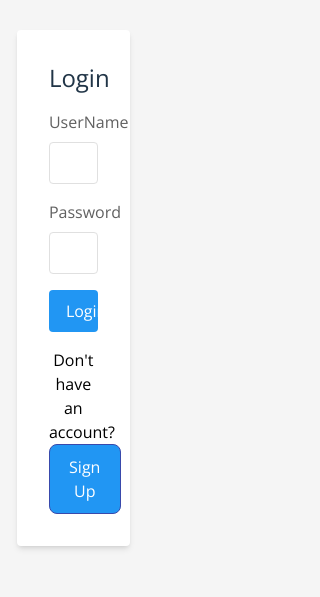
Test: LoginPage › switches to signup mode when the "Sign Up" button is clicked
Click the button "Sign Up" at x=85, y=479, box [49,444,121,514]
(page scrolled)
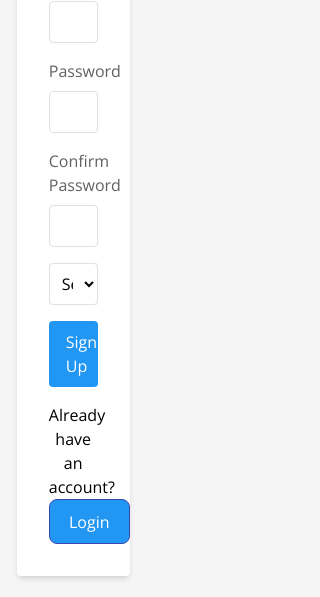
Result: the text "Already have an account? Login" is shown at [49,403,98,544]
Result: the button "Login" is shown at [49,499,130,544]
